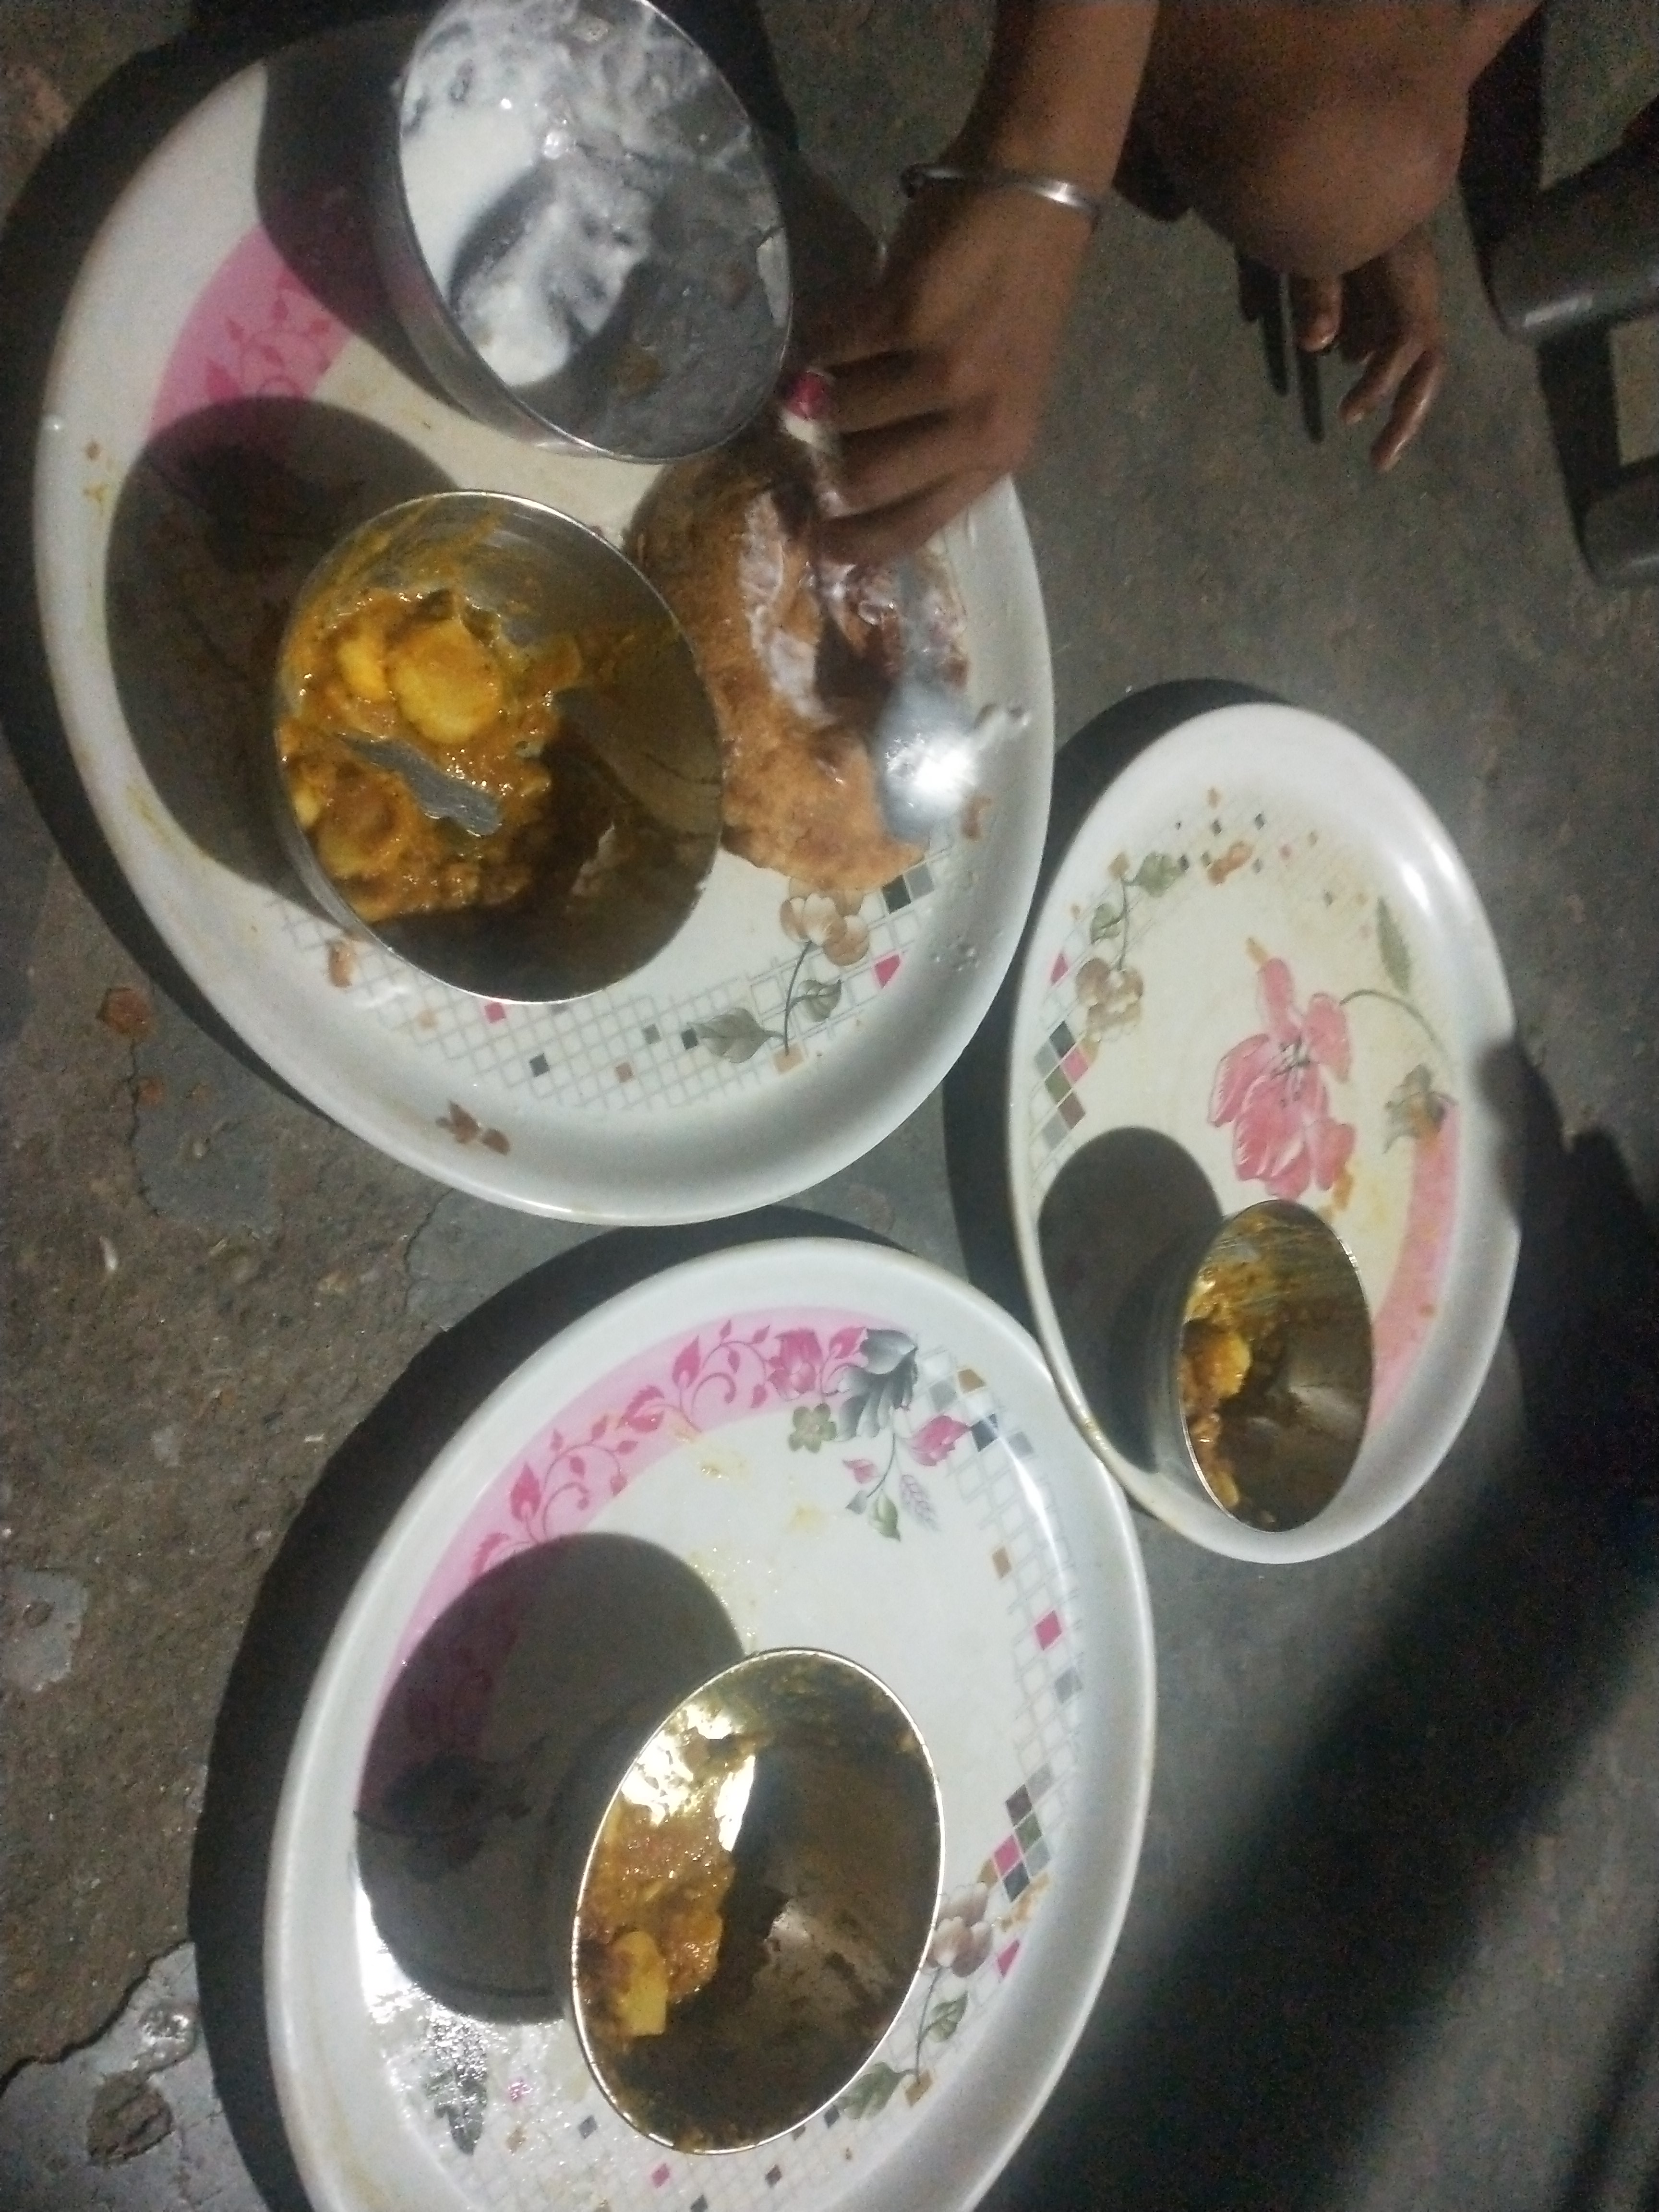food: (270, 2, 985, 1012), (575, 1764, 809, 2148), (1178, 1223, 1330, 1527)
